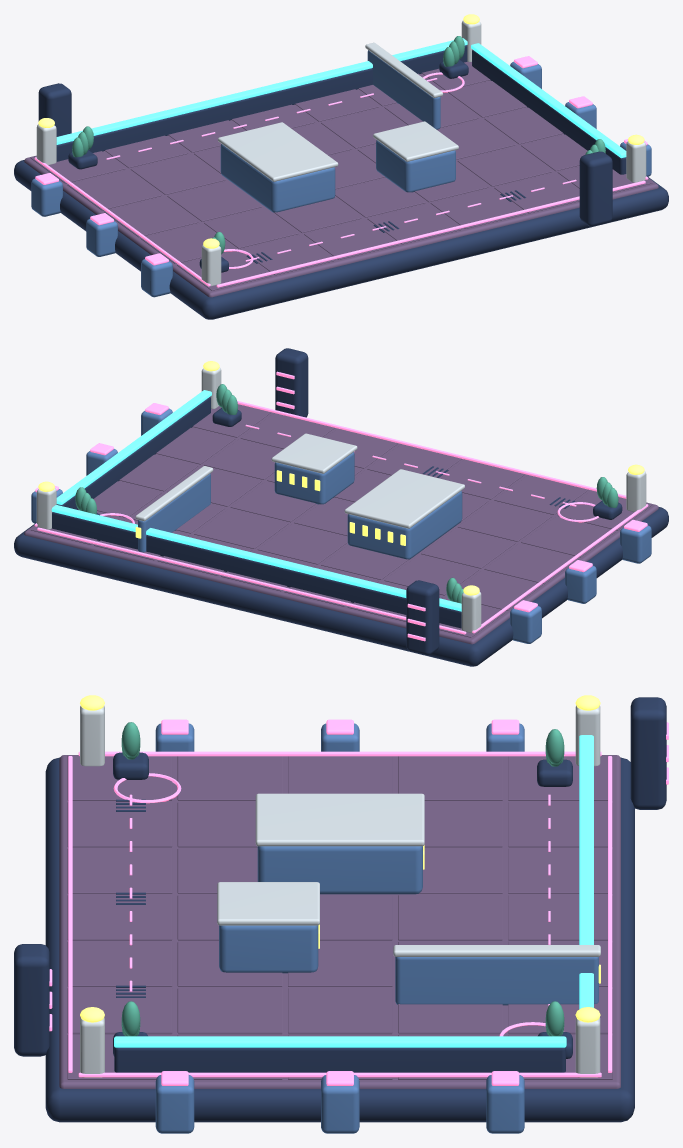
Rendered from citadel.glb.
3 views of the same model, one above another, from view 1: azimuth 30°, elevation 25°; view 2: azimuth 150°, elevation 25°; view 3: azimuth 270°, elevation 25° (orthographic). The views are drawn at different scales.
Parts seen in each view (by area): view 1: Floating foundation, Arena floor, Reflector base, Cover cap, Cover, Reflector beam, Cover.001, Reflector base.001, Service tower.001, Cover.002, Floor panel.028, Floor panel.006 (+42 smaller); view 2: Floating foundation, Arena floor, Reflector base, Cover cap, Cover, Reflector beam, Cover.001, Reflector base.001, Service tower, Floor panel.007, Floor panel.008, Floor panel.021 (+40 smaller); view 3: Floating foundation, Arena floor, Reflector base.001, Cover.002, Cover cap, Cover, Reflector beam.001, Floor panel.028, Floor panel.016, Floor panel.027, Cover.001, Floor panel.014 (+46 smaller).
Boxes of the visible parts, x1,y1,x2,y2 form: Floating foundation: [14, 160, 668, 319]; Arena floor: [24, 73, 658, 297]; Reflector base: [56, 45, 467, 161]; Cover cap: [218, 122, 338, 181]; Cover: [220, 144, 335, 212]; Reflector beam: [56, 38, 467, 144]; Cover.001: [376, 140, 455, 192]; Reflector base.001: [472, 49, 626, 174]; Service tower.001: [579, 151, 612, 226]; Cover.002: [367, 50, 440, 129]; Floor panel.028: [457, 146, 552, 186]; Floor panel.006: [130, 154, 225, 194]; Floating foundation: [14, 506, 668, 666]; Arena floor: [24, 412, 658, 644]; Reflector base: [52, 512, 461, 628]; Cover cap: [344, 469, 464, 528]; Cover: [347, 491, 462, 559]; Reflector beam: [51, 504, 461, 611]; Cover.001: [274, 452, 354, 504]; Reflector base.001: [56, 396, 210, 509]; Service tower: [406, 580, 439, 655]; Floor panel.007: [421, 528, 515, 568]; Floor panel.008: [458, 501, 552, 541]; Floor panel.021: [194, 508, 288, 548]; Floating foundation: [45, 757, 634, 1122]; Arena floor: [59, 755, 620, 1088]; Reflector base.001: [114, 1047, 565, 1072]; Cover.002: [395, 957, 598, 1005]; Cover cap: [255, 793, 424, 846]; Cover: [257, 846, 422, 894]; Reflector beam.001: [114, 1036, 566, 1047]; Floor panel.028: [177, 988, 282, 1033]; Floor panel.016: [398, 895, 502, 940]; Floor panel.027: [288, 988, 392, 1033]; Cover.001: [219, 925, 318, 973]; Floor panel.014: [67, 848, 172, 893].
Bounding box in the file's own units: 15.8 × 2.35 × 11.89.
